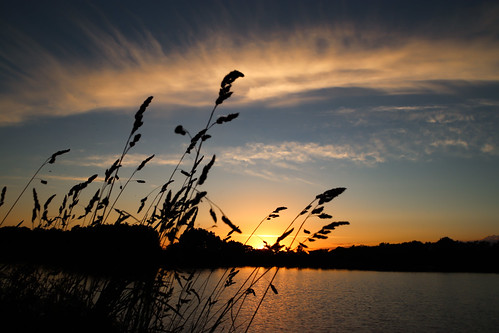river: (158, 276, 499, 332)
sky: (8, 1, 491, 213)
sun: (250, 234, 280, 248)
vegetation: (1, 97, 323, 333)
